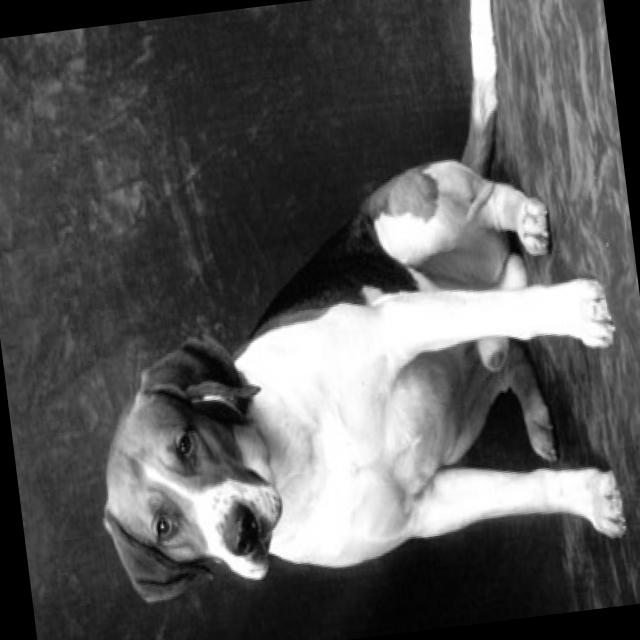sitting: (52, 84, 640, 632)
